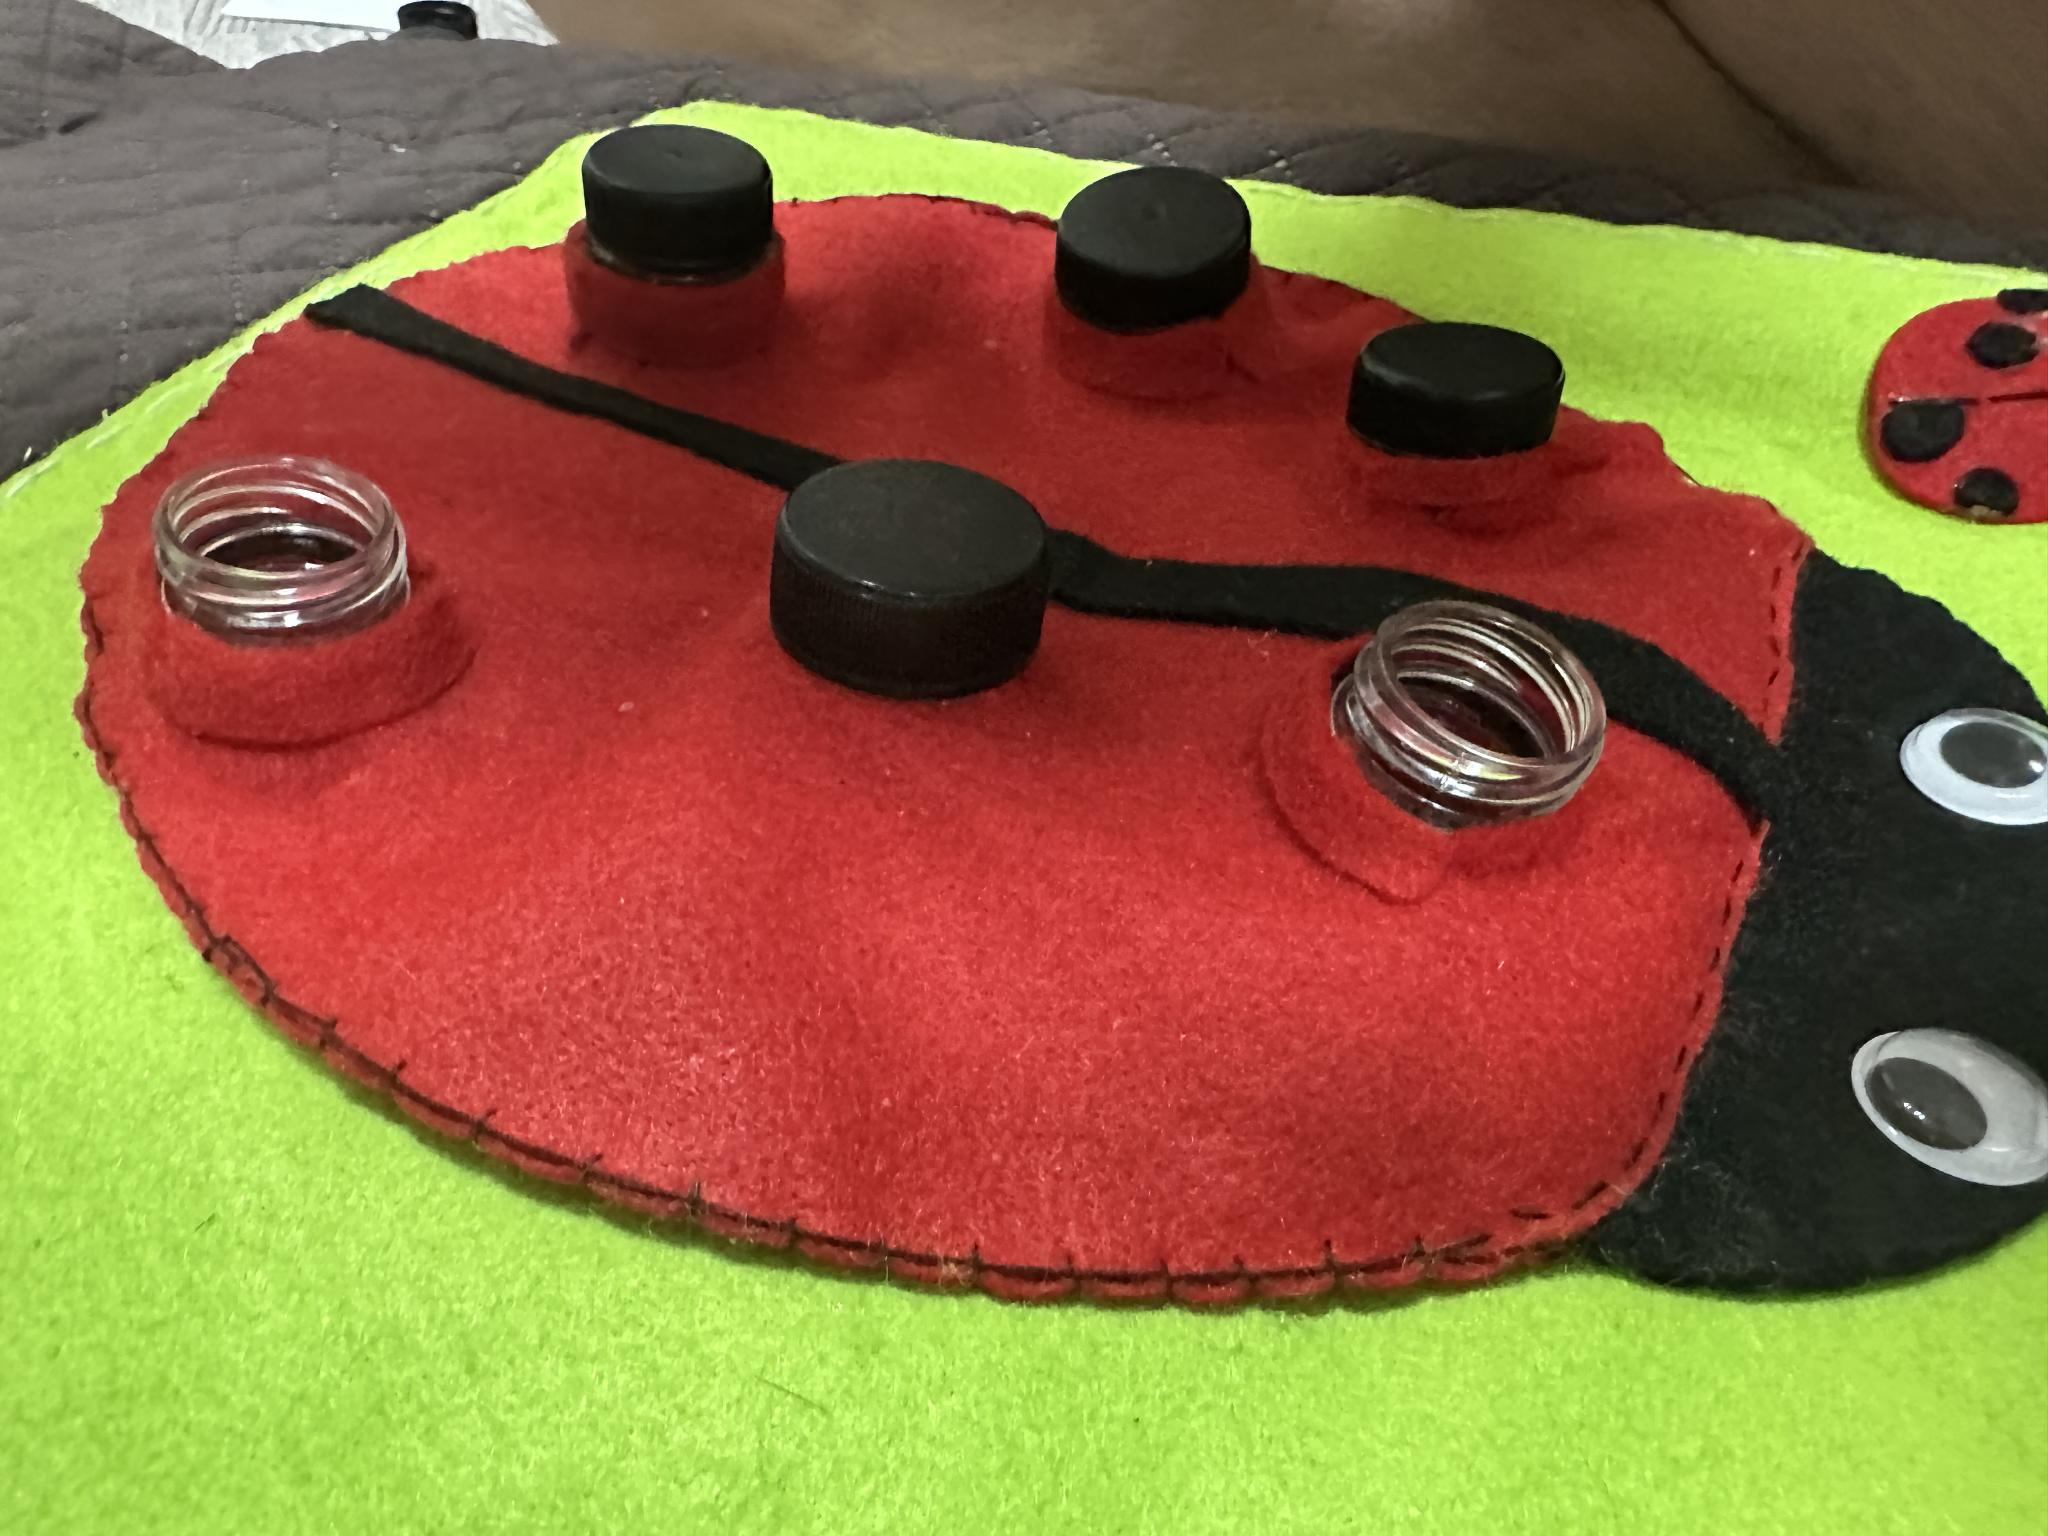cap_ok: (740, 428, 1106, 757), (511, 111, 876, 390), (1308, 294, 1629, 537), (1019, 137, 1303, 405)
